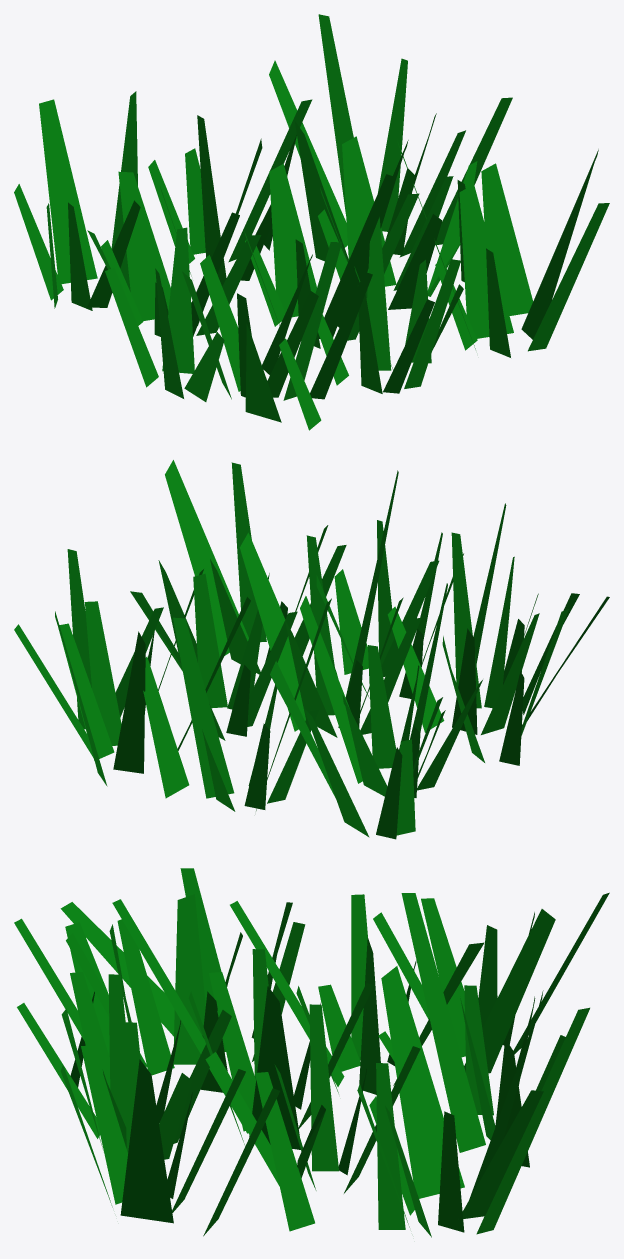
The model's file is grasslowpoly.glb.
3 views of the same model, one above another, from view 1: azimuth 30°, elevation 25°; view 2: azimuth 150°, elevation 25°; view 3: azimuth 270°, elevation 25° (orthographic). The views are drawn at different scales.
Parts seen in each view (by area): view 1: Blade1.023; view 2: Blade1.023; view 3: Blade1.023.
Part boxes in pixels (box(x1,y1,x2,y2)): Blade1.023: box(14, 14, 609, 430); Blade1.023: box(14, 460, 609, 839); Blade1.023: box(14, 868, 609, 1237).
Bounding box in the file's own units: 21.26 × 10.74 × 22.37.
